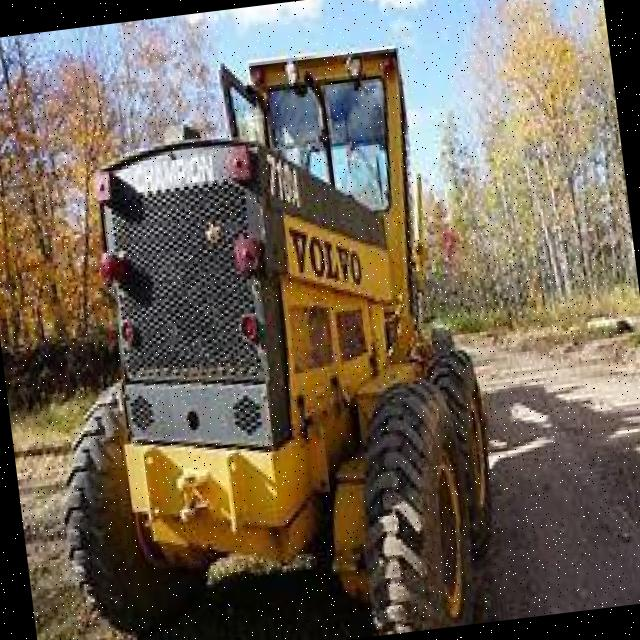Grader: (0, 9, 549, 640)
